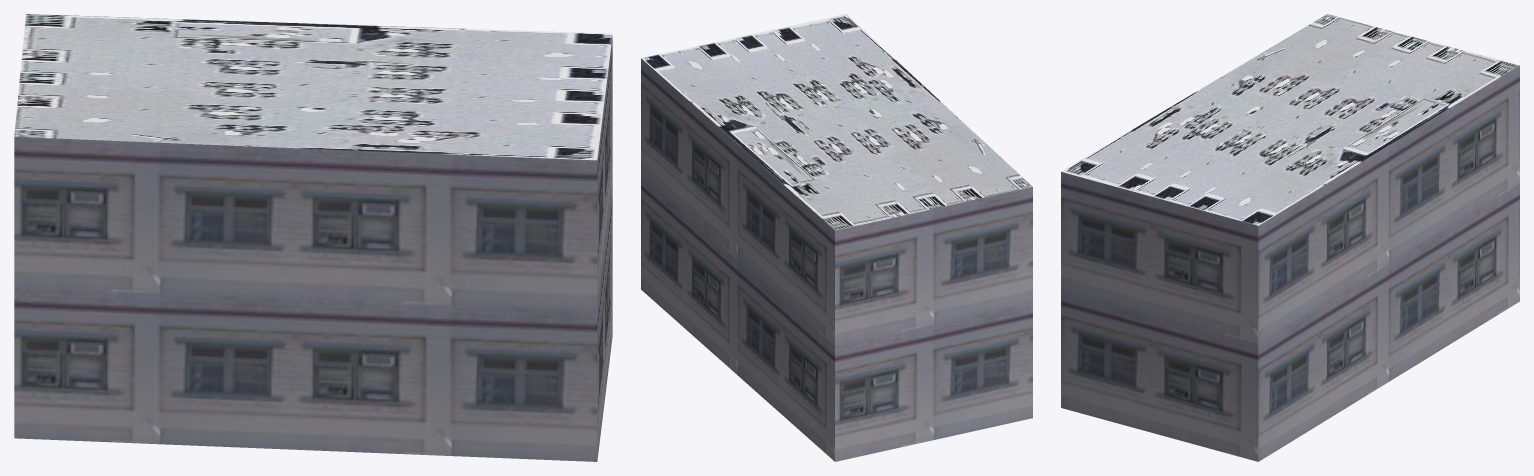
File: ResTex__4939.fbx
3 renders of one model, left to right at view 1: azimuth 30°, elevation 25°; view 2: azimuth 150°, elevation 25°; view 3: azimuth 270°, elevation 25°, orthographic. The views are drawn at different scales.
Parts seen in each view (by area): view 1: CityEngineMaterial_1_m, CityEngineMaterial_m; view 2: CityEngineMaterial_1_m, CityEngineMaterial_m; view 3: CityEngineMaterial_1_m, CityEngineMaterial_m.
Part boxes in pixels (box(x1,y1,x2,y2)): CityEngineMaterial_1_m: box(14, 36, 612, 461); CityEngineMaterial_m: box(14, 14, 612, 160); CityEngineMaterial_1_m: box(641, 58, 1032, 461); CityEngineMaterial_m: box(641, 14, 1032, 230); CityEngineMaterial_1_m: box(1061, 65, 1519, 461); CityEngineMaterial_m: box(1061, 14, 1519, 225).
Size of the model in its own units: 11.55 by 6 by 10.56.
2 materials, 2 textured.
